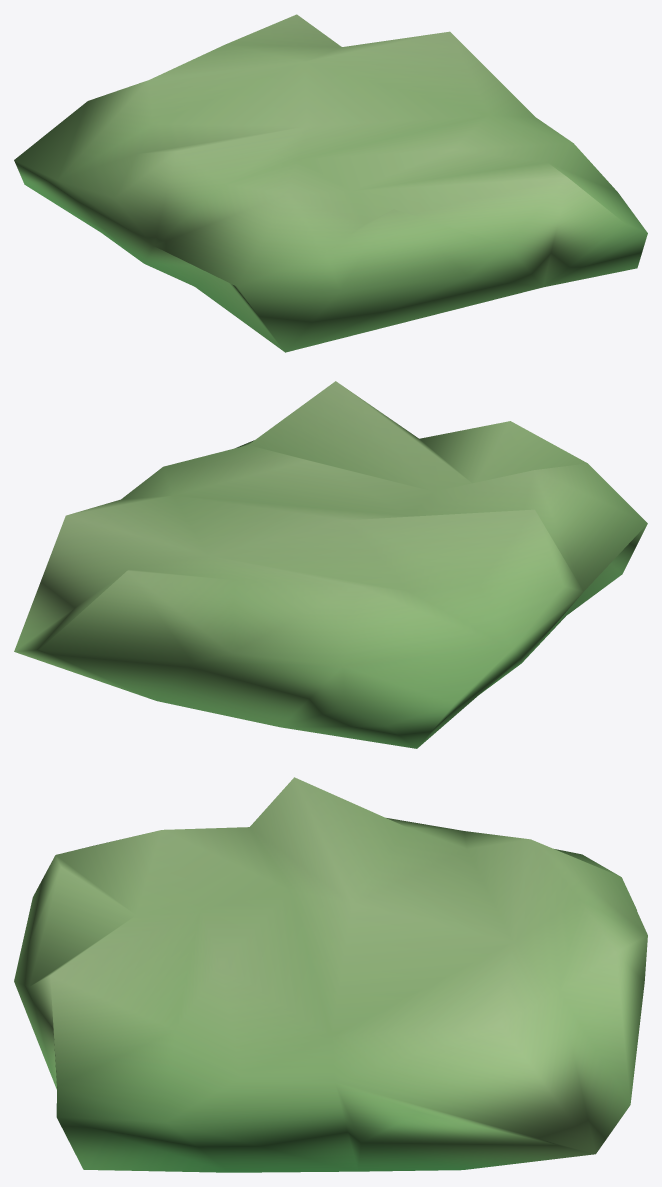
File: SM_Rice_Field_02.fbx
3 renders of one model, top to bottom at view 1: azimuth 30°, elevation 25°; view 2: azimuth 150°, elevation 25°; view 3: azimuth 270°, elevation 25°, orthographic. The views are drawn at different scales.
Visible parts, largest first — view 1: SM_Bush_01; view 2: SM_Bush_01; view 3: SM_Bush_01.
Boxes of the visible parts, x1,y1,x2,y2 form: SM_Bush_01: (14, 14, 647, 352); SM_Bush_01: (14, 381, 647, 748); SM_Bush_01: (14, 777, 647, 1172).
Size of the model in its own units: 586 by 190 by 610.
